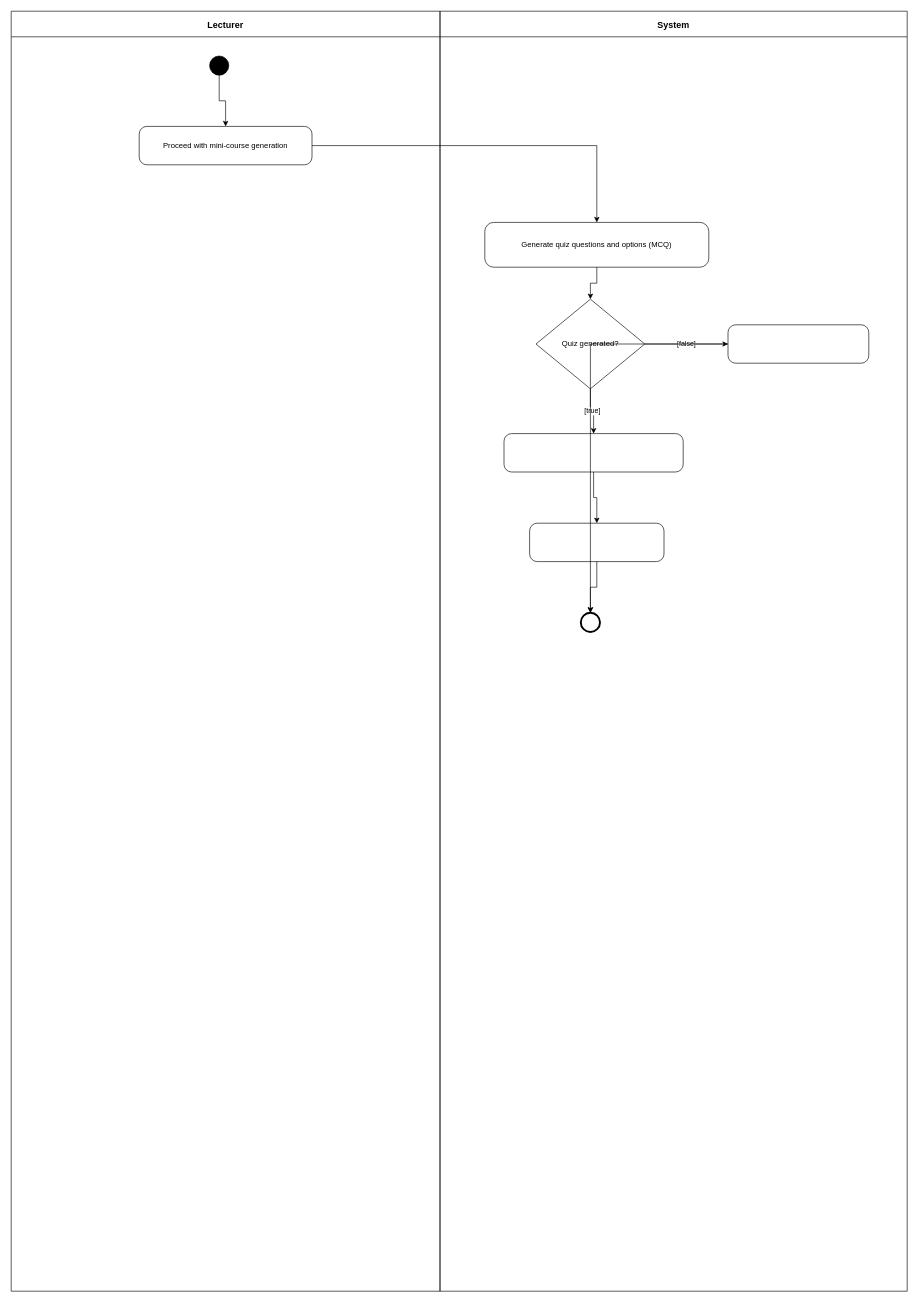
Image size: 918x1302. Some labels were removed from this diagram. Here are the shapes that lost their labels. From the top down, the centre of each, then its label:
At (798,343): "Return generation error".
At (593,452): "Store quiz questions & options".
At (596,542): "Return quiz for preview".
